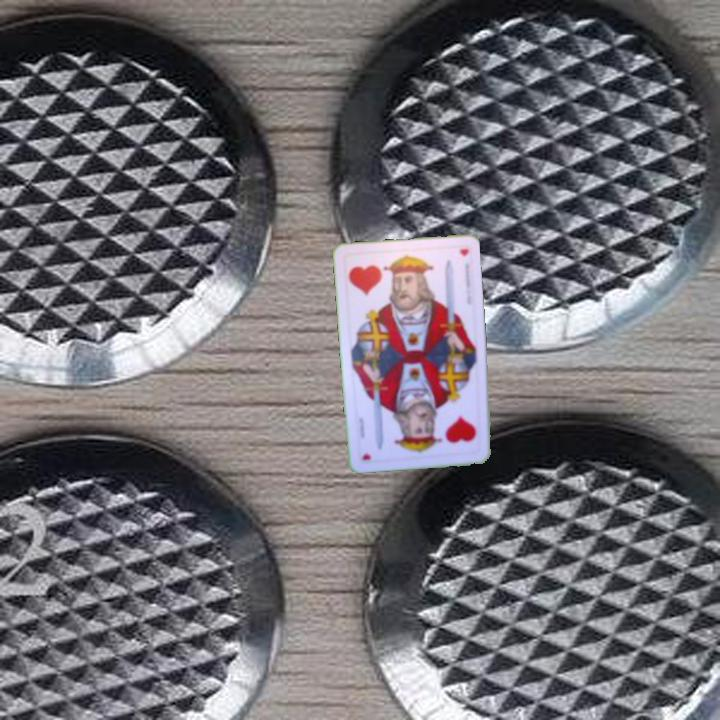h_k.png: (414, 397, 484, 459), (342, 248, 412, 310)
